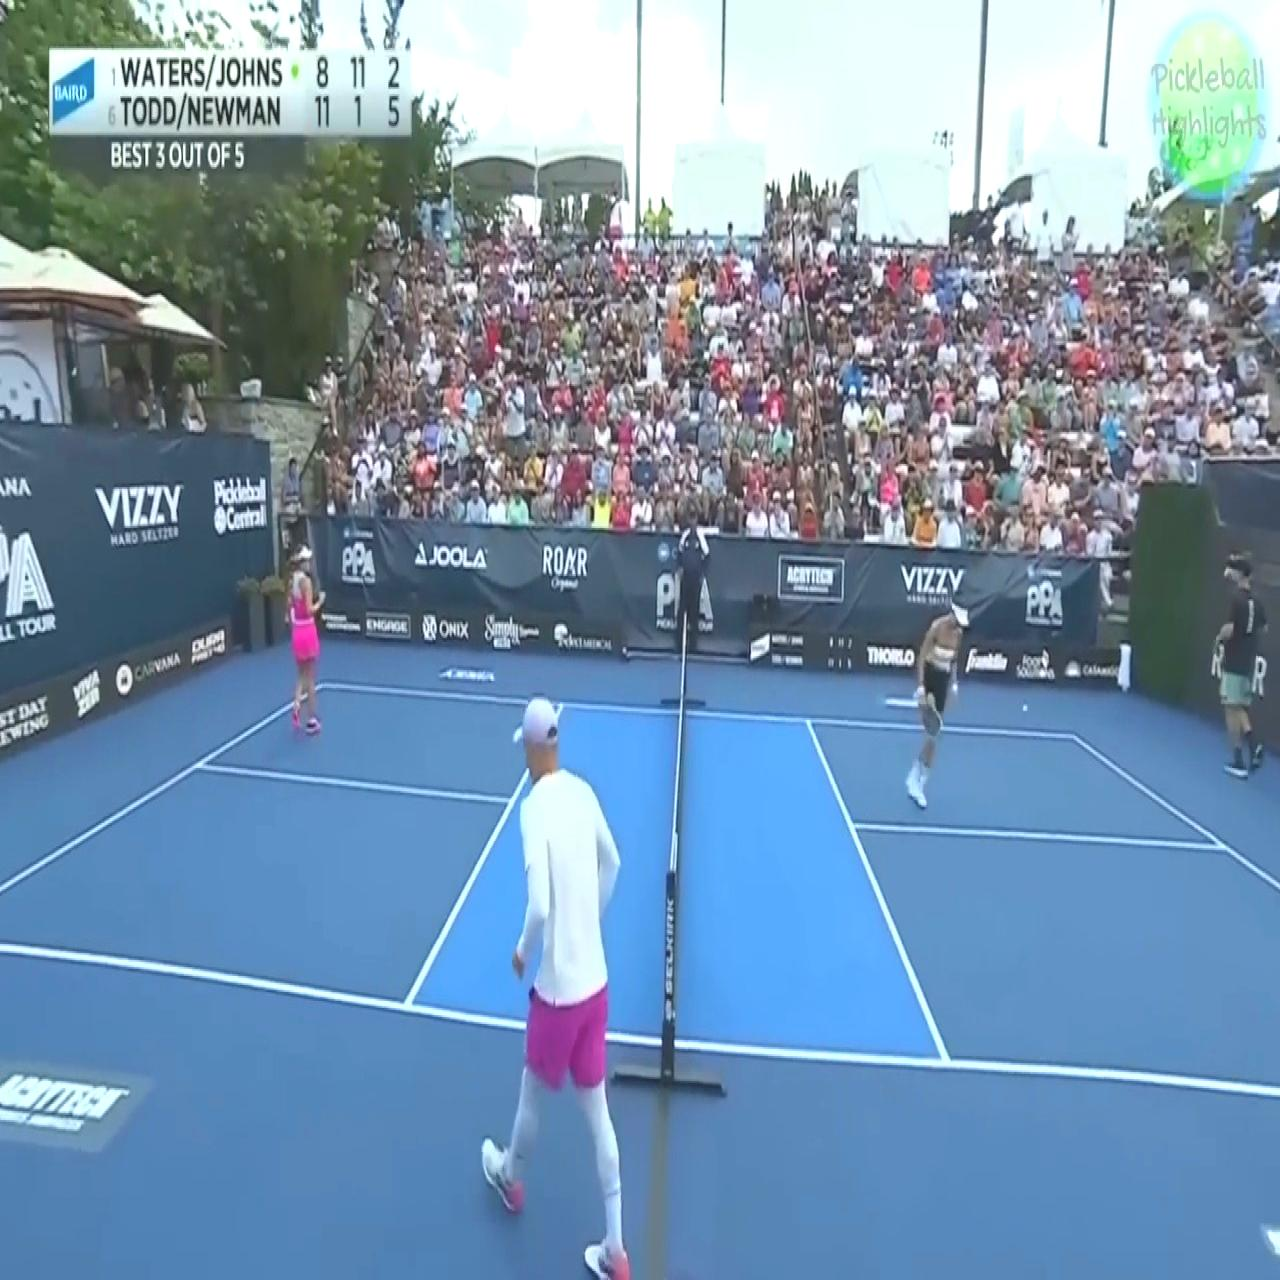Pickleball: (1019, 699, 1028, 720)
